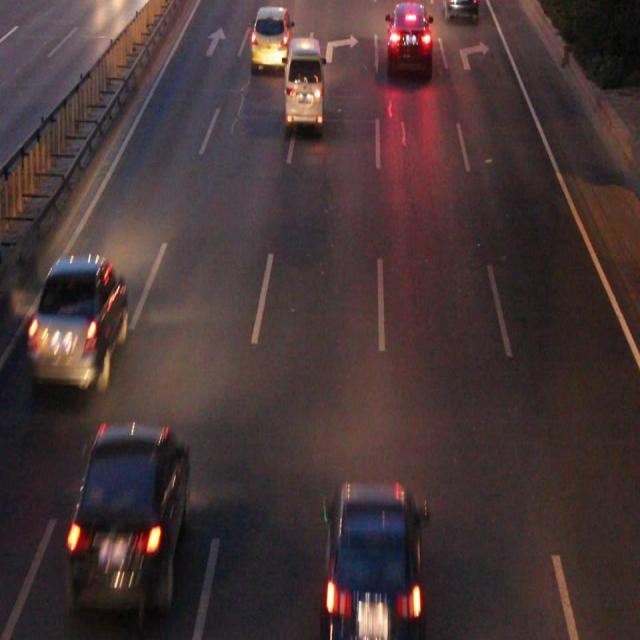car: (71, 426, 188, 599), (324, 485, 422, 622), (29, 259, 126, 382), (386, 1, 431, 75), (250, 7, 291, 65), (442, 1, 476, 19)
truck: (285, 39, 324, 125)
